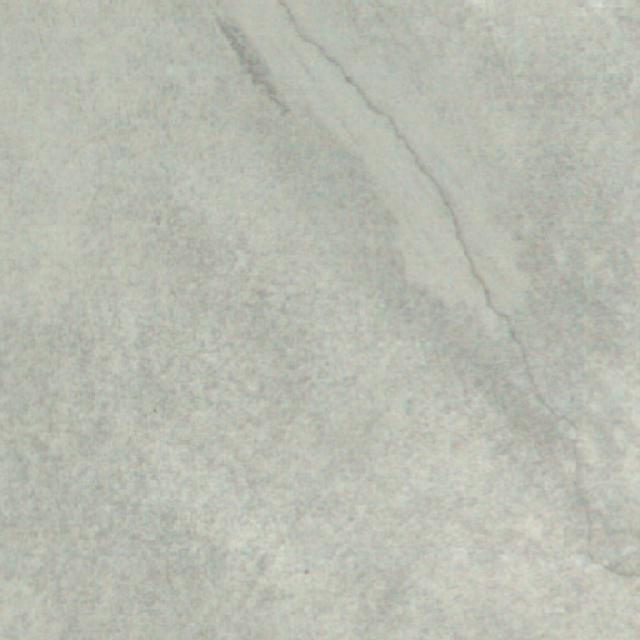Diagonal: (209, 0, 632, 580)
